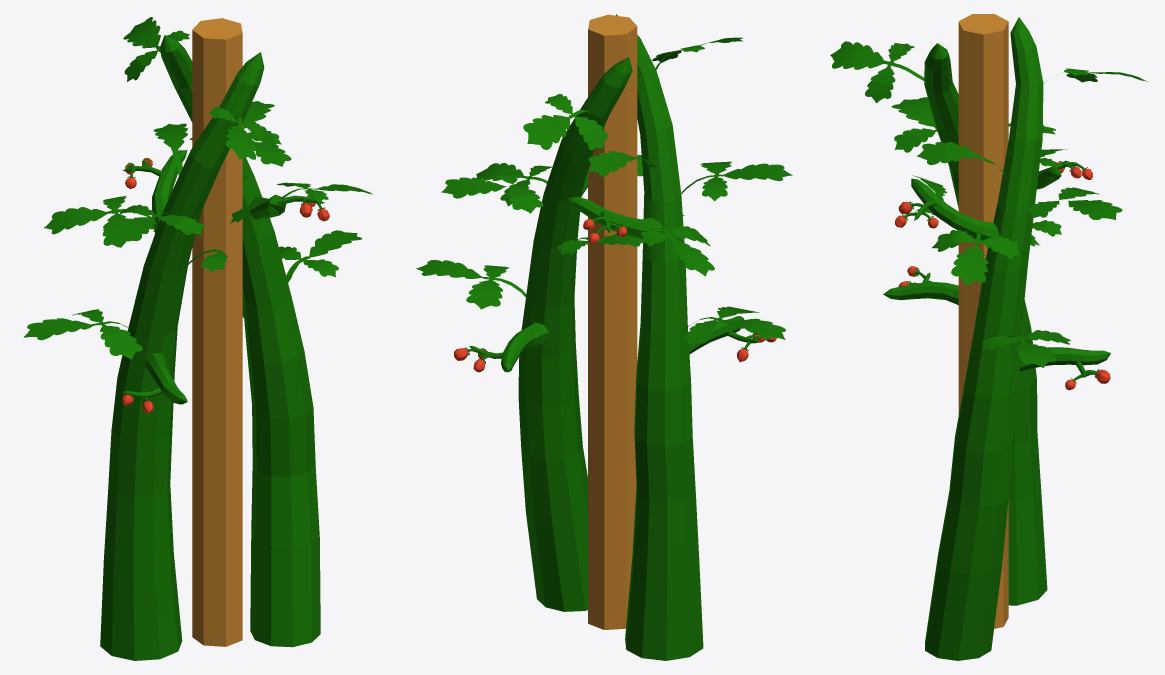
The model's file is Adult_Tomato (1).fbx.
3 views of the same model, side by side, from view 1: azimuth 30°, elevation 25°; view 2: azimuth 150°, elevation 25°; view 3: azimuth 270°, elevation 25° (orthographic). The views are drawn at different scales.
Visible parts, largest first — view 1: adult; view 2: adult; view 3: adult.
Part boxes in pixels (left/top/right/bottom): adult: left=23, top=17, right=372, bottom=660; adult: left=416, top=14, right=792, bottom=660; adult: left=830, top=14, right=1147, bottom=660.
Size of the model in its own units: 73.13 by 117 by 58.04.
Materials: 1 (1 with a texture image).
